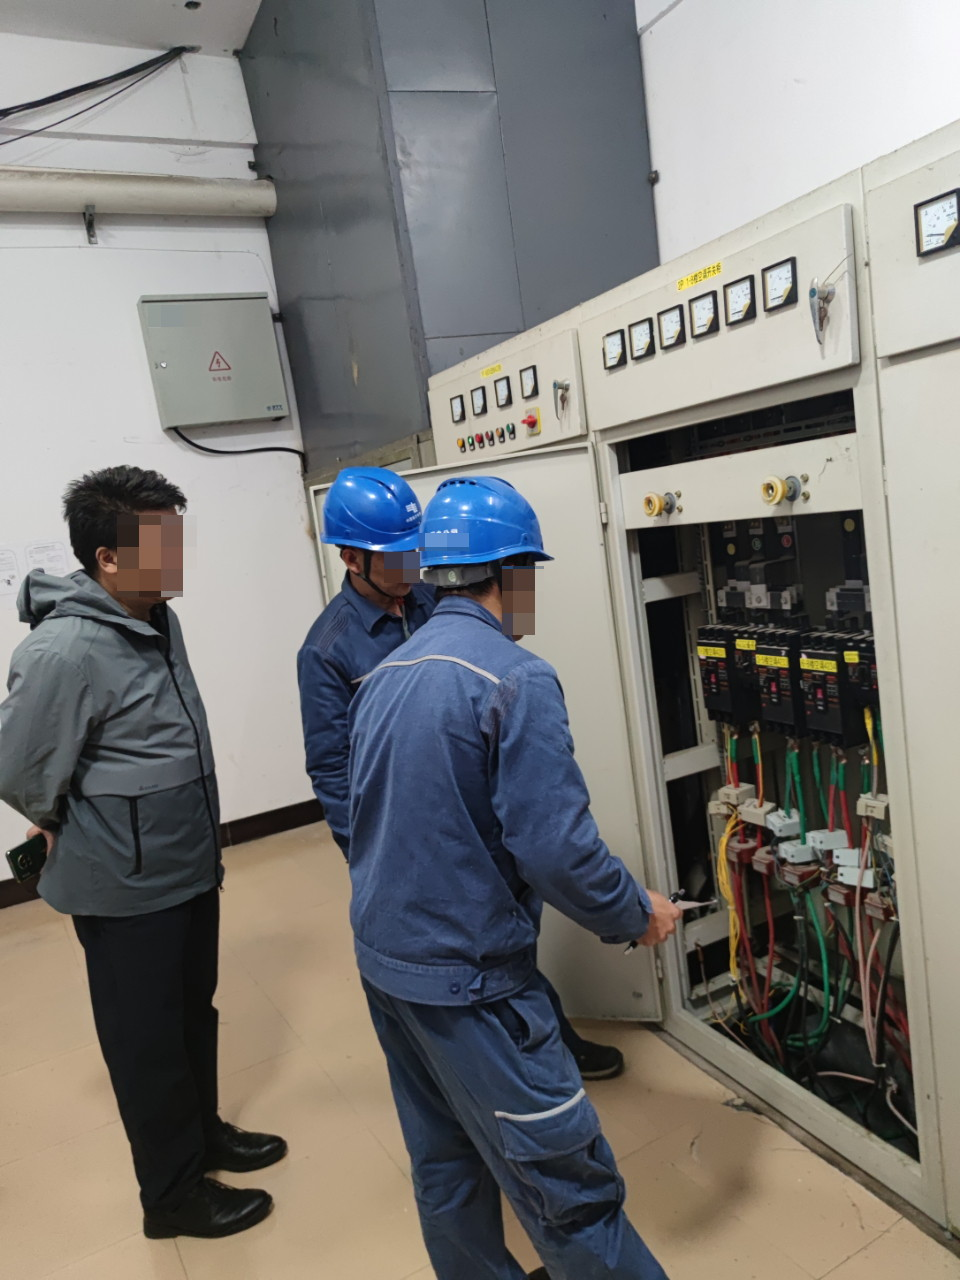downcloth: (77, 913, 246, 1213)
downsuit: (362, 1001, 667, 1279)
halt: (418, 475, 557, 626), (319, 465, 424, 599)
hand: (638, 889, 685, 949)
inear: (493, 554, 539, 611), (337, 545, 385, 583)
noear: (85, 539, 139, 583)
person: (350, 455, 720, 1279), (1, 461, 280, 1249), (295, 457, 630, 1084)
unhalt: (63, 465, 198, 605)
upcloth: (4, 597, 225, 907)
upsuit: (343, 605, 675, 998), (304, 573, 449, 868)
